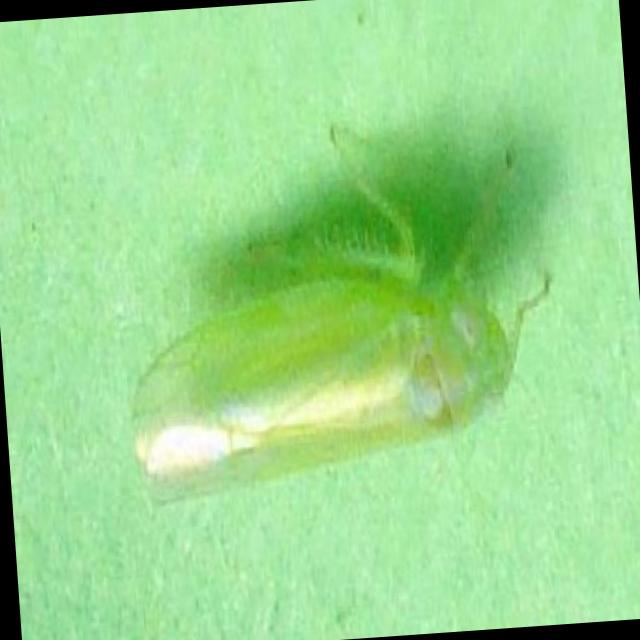green-leafhopper: (117, 228, 528, 495)
